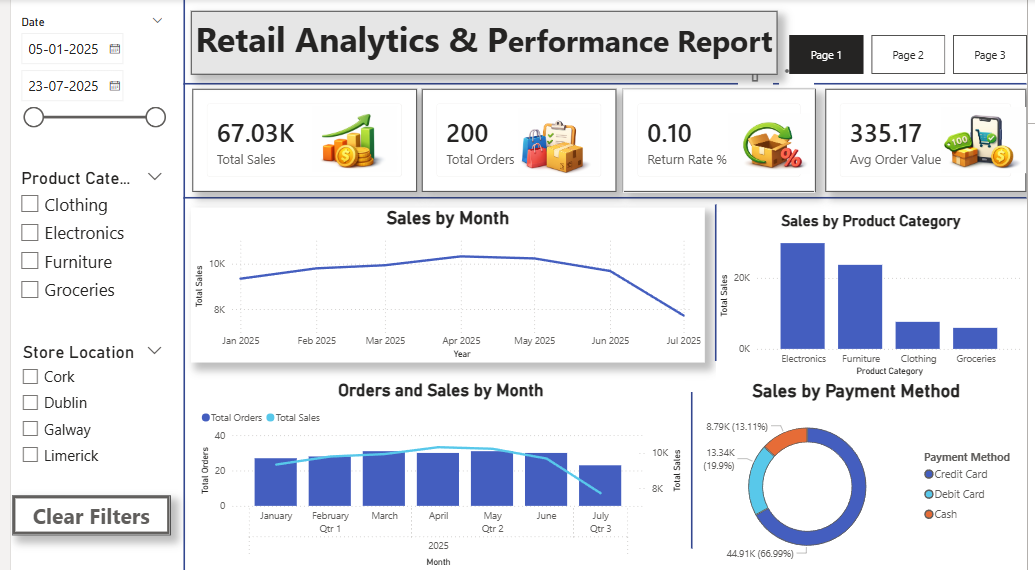

The page's visual inventory and layout, read from the dashboard file:
{"tool":"powerbi","page":{"name":"Page 1","canvas":[1280,720],"ordinal":0},"visuals":[{"type":"shape","box":[217.3,215.4,1062.1,69.9],"z":0},{"type":"shape","box":[217.3,71.8,1062.1,69.9],"z":1000},{"type":"shape","box":[170.1,0,96.4,720],"z":2000},{"type":"donutChart","title":"Sales by Payment Method","fields":{"Y":["Dataset_2.Total Sales"],"Category":["Dataset_2.Payment Method"]},"box":[850.4,480,429,240],"z":3000},{"type":"cardVisual","fields":{"Data":["Dataset_2.Total Sales"]},"box":[229,113.5,282.8,129.5],"z":4000},{"type":"cardVisual","fields":{"Data":["Dataset_2.Total Orders"]},"box":[517.9,113.5,245,129.5],"z":5000},{"type":"cardVisual","fields":{"Data":["Dataset_2.Return Rate %"]},"box":[770.8,113.5,243,129.5],"z":6000},{"type":"cardVisual","fields":{"Data":["Dataset_2.Avg Order Value"]},"box":[1025.7,113.5,253,129.5],"z":7000},{"type":"slicer","fields":{"Values":["Dataset_2.Store Location"]},"box":[2,426.2,201.2,171.3],"z":8000},{"type":"slicer","fields":{"Values":["Dataset_2.Product Category"]},"box":[0,207.1,203.2,191.2],"z":9000},{"type":"slicer","fields":{"Values":["Dataset_2.Date"]},"box":[0,15.9,203.2,167.3],"z":10000},{"type":"lineChart","title":"Sales by Month","fields":{"Y":["Dataset_2.Total Sales"],"Category":["Dataset_2.Date.Variation.Date Hierarchy.Year","Dataset_2.Date.Variation.Date Hierarchy.Quarter","Dataset_2.Date.Variation.Date Hierarchy.Month"]},"box":[227.1,262.9,647.3,195.2],"z":11000},{"type":"clusteredColumnChart","title":" Sales by Product Category","fields":{"Y":["Dataset_2.Total Sales"],"Category":["Dataset_2.Product Category"]},"box":[888.3,268.9,390.4,211.1],"z":12000},{"type":"lineStackedColumnComboChart","title":"Orders and  Sales by Month","fields":{"Category":["Dataset_2.Date.Variation.Date Hierarchy.Year","Dataset_2.Date.Variation.Date Hierarchy.Quarter","Dataset_2.Date.Variation.Date Hierarchy.Month"],"Y":["Dataset_2.Total Orders"],"Y2":["Dataset_2.Total Sales"]},"box":[234.7,480,614.8,239.2],"z":13000},{"type":"pageNavigator","box":[979.9,45.8,300.8,49.8],"z":14000},{"type":"textbox","box":[227.1,15.9,738.9,79.7],"z":15000},{"type":"actionButton","title":"  Clear Filters","box":[2,625.4,199.2,49.8],"z":15001},{"type":"shape","box":[808.6,495.9,97.6,197.2],"z":15002},{"type":"shape","box":[838.5,258.9,97.6,197.2],"z":15003},{"type":"image","box":[380.4,133.4,107.6,85.6],"z":15004},{"type":"image","box":[1172.4,135.4,107.6,83.7],"z":15005},{"type":"image","box":[904.2,139.4,103.6,85.6],"z":15006},{"type":"image","box":[639.3,137.4,101.6,83.7],"z":15007}]}

Visuals, with their boxes on the page's 1280x720 design canvas (x1, y1, x2, y2). These are canvas units, not pixel positions in the 1035x570 screenshot, which may show the page scaled, cropped or inside an application window:
shape: box(217, 215, 1279, 285)
shape: box(217, 72, 1279, 142)
shape: box(170, 0, 266, 720)
"Sales by Payment Method" donutChart: box(850, 480, 1279, 720)
cardVisual - Dataset_2.Total Sales: box(229, 114, 512, 243)
cardVisual - Dataset_2.Total Orders: box(518, 114, 763, 243)
cardVisual - Dataset_2.Return Rate %: box(771, 114, 1014, 243)
cardVisual - Dataset_2.Avg Order Value: box(1026, 114, 1279, 243)
slicer - Dataset_2.Store Location: box(2, 426, 203, 598)
slicer - Dataset_2.Product Category: box(0, 207, 203, 398)
slicer - Dataset_2.Date: box(0, 16, 203, 183)
"Sales by Month" lineChart: box(227, 263, 874, 458)
" Sales by Product Category" clusteredColumnChart: box(888, 269, 1279, 480)
"Orders and  Sales by Month" lineStackedColumnComboChart: box(235, 480, 850, 719)
pageNavigator: box(980, 46, 1281, 96)
textbox: box(227, 16, 966, 96)
"  Clear Filters" actionButton: box(2, 625, 201, 675)
shape: box(809, 496, 906, 693)
shape: box(838, 259, 936, 456)
image: box(380, 133, 488, 219)
image: box(1172, 135, 1280, 219)
image: box(904, 139, 1008, 225)
image: box(639, 137, 741, 221)
